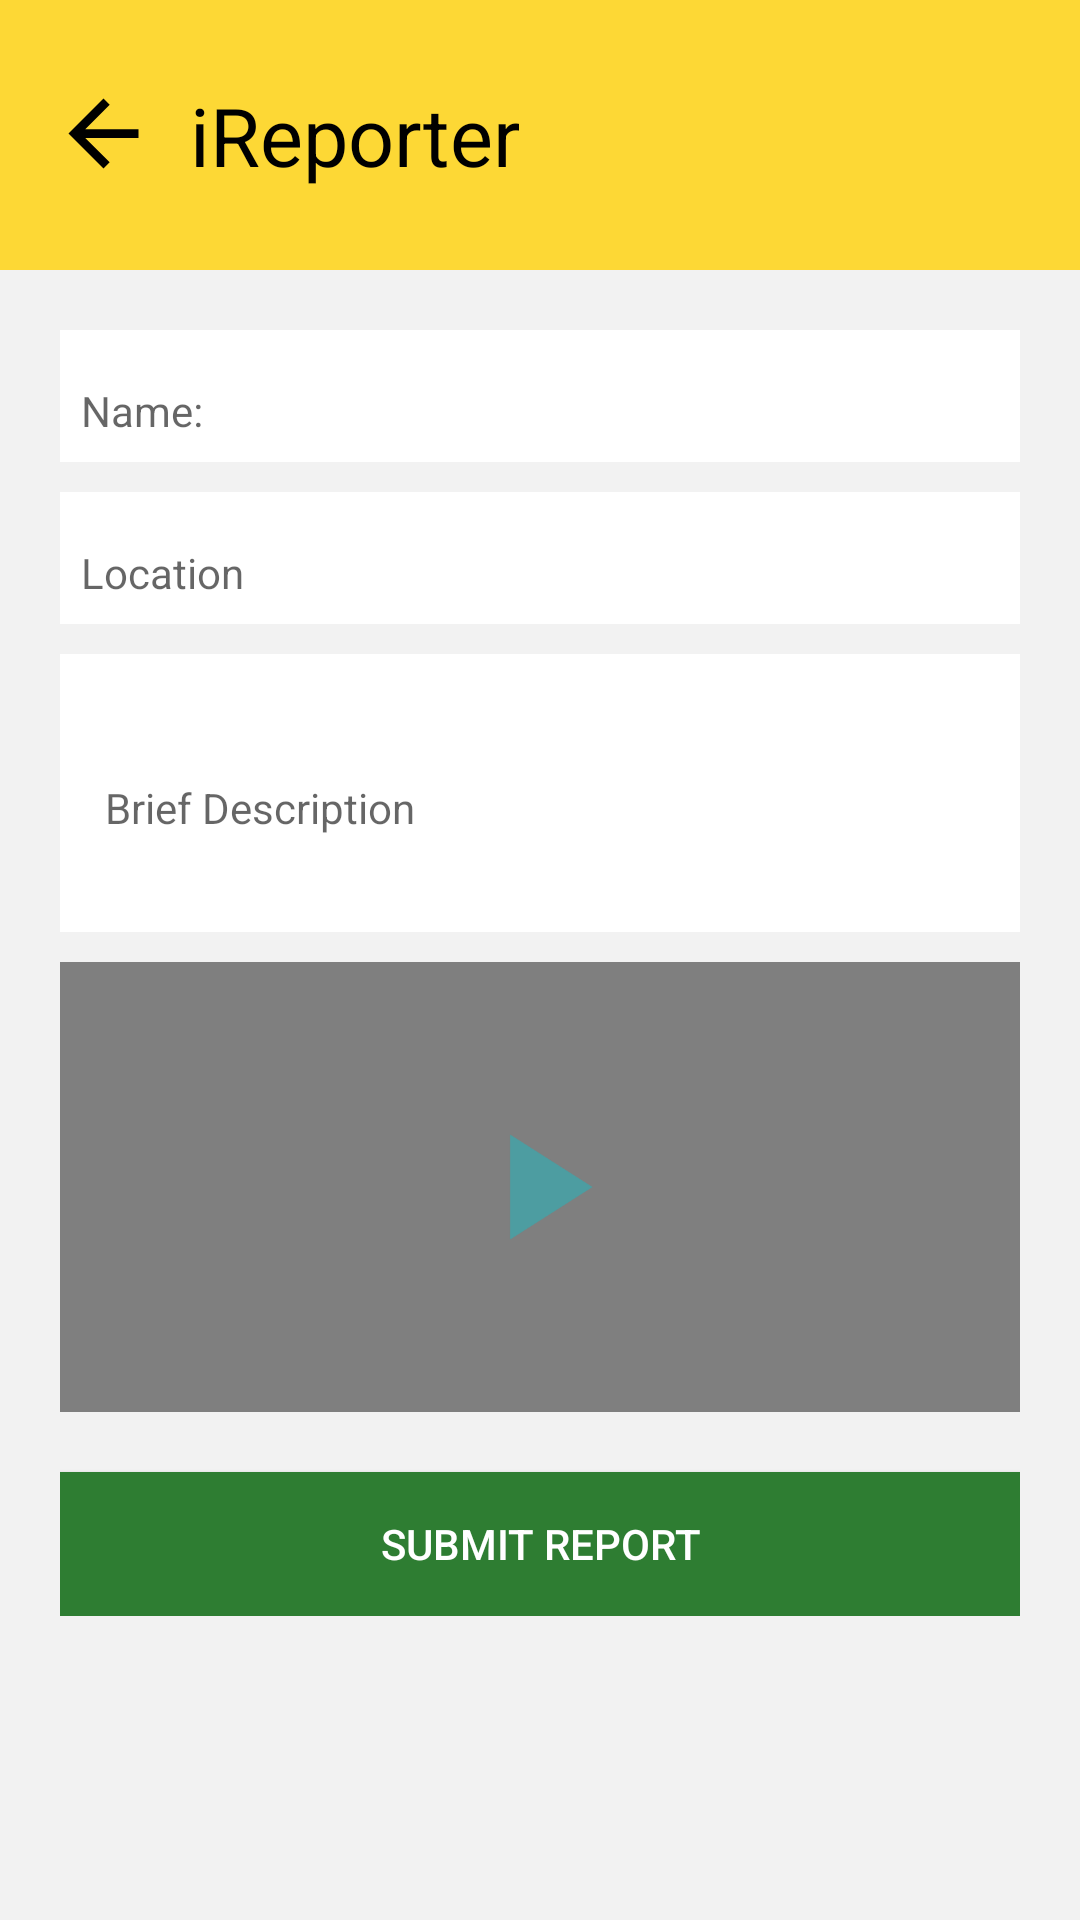

Named icons in this screenshot (1080*1920) and their bounding boxes, (x1, y1, x2, y2):
back: (68, 98, 139, 169)
play arrow: (510, 1135, 592, 1239)
